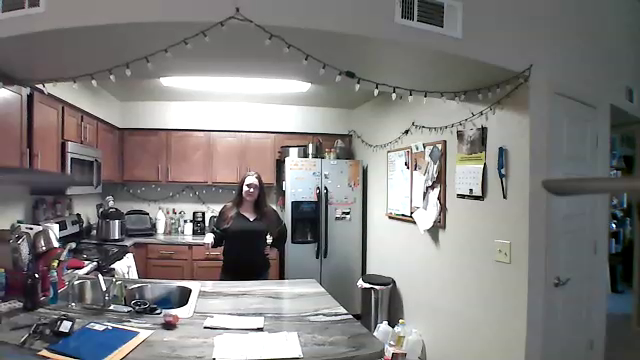down: (201, 232, 215, 253)
